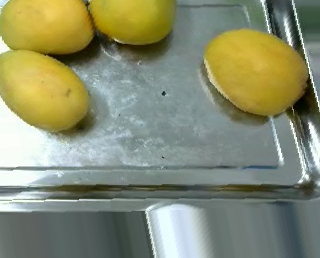Mango: (199, 27, 313, 117), (0, 50, 95, 133), (0, 0, 94, 54), (83, 0, 177, 48)
